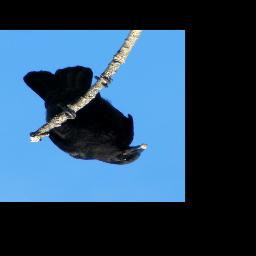Crow: (22, 65, 149, 166)
